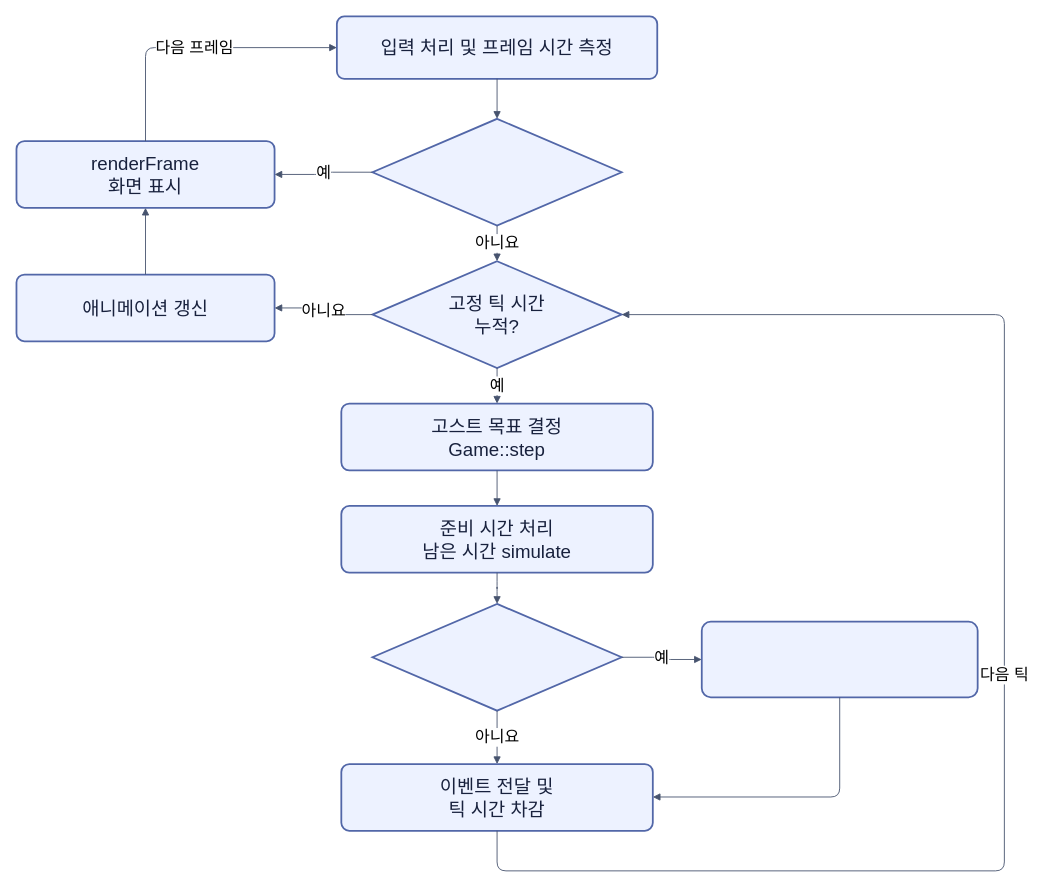
This 1044x894 diagram has some shape labels left out. Each missing label, with the centre of its shape:
"이동 전후 모두 playing?" goes at (496,657).
"일시정지 또는 포커스 상실?" goes at (496,171).
"현재 칸 수집·효과 → 충돌 → 승패 판정" goes at (839,659).
